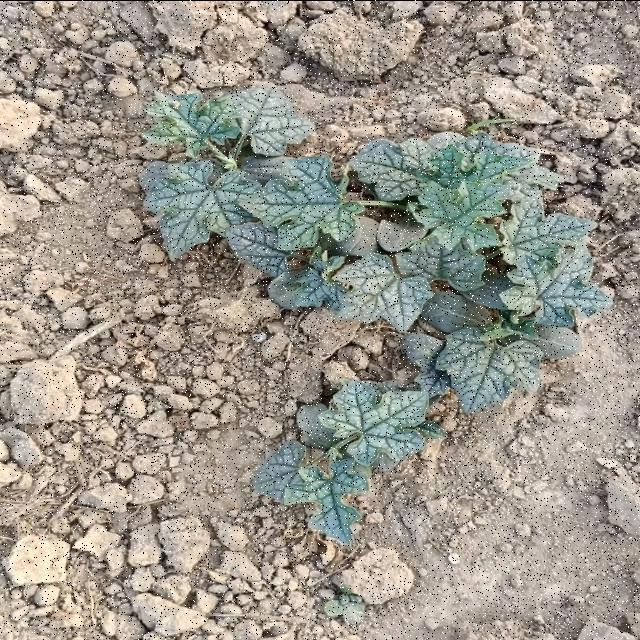plant: (141, 86, 612, 542)
